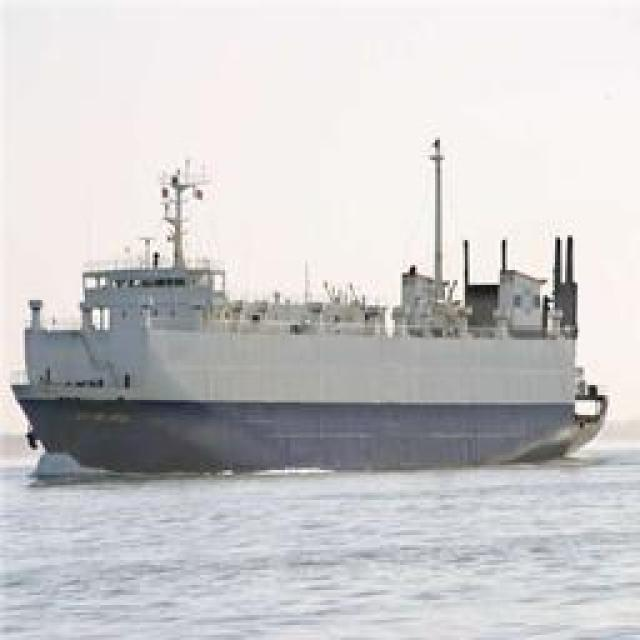CIV_Ship: (18, 135, 620, 470)
